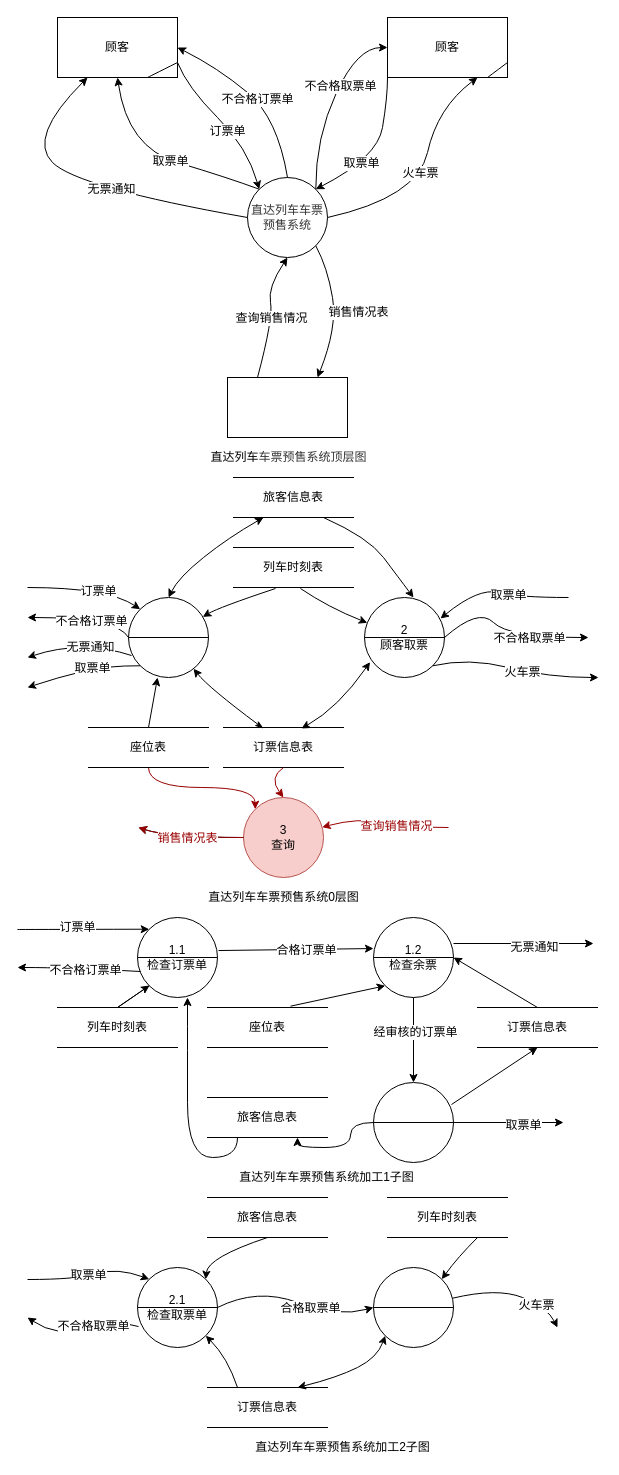
Some shapes in this 619 by 1475 pixel diagram are drawn without their labels. Each missing label, with the centre of its shape:
1 顾客订票: pixel 168 637
1.3 填写取票单: pixel 413 1122
2.2 打印火车票: pixel 413 1307
售票处工作人员: pixel 287 407
